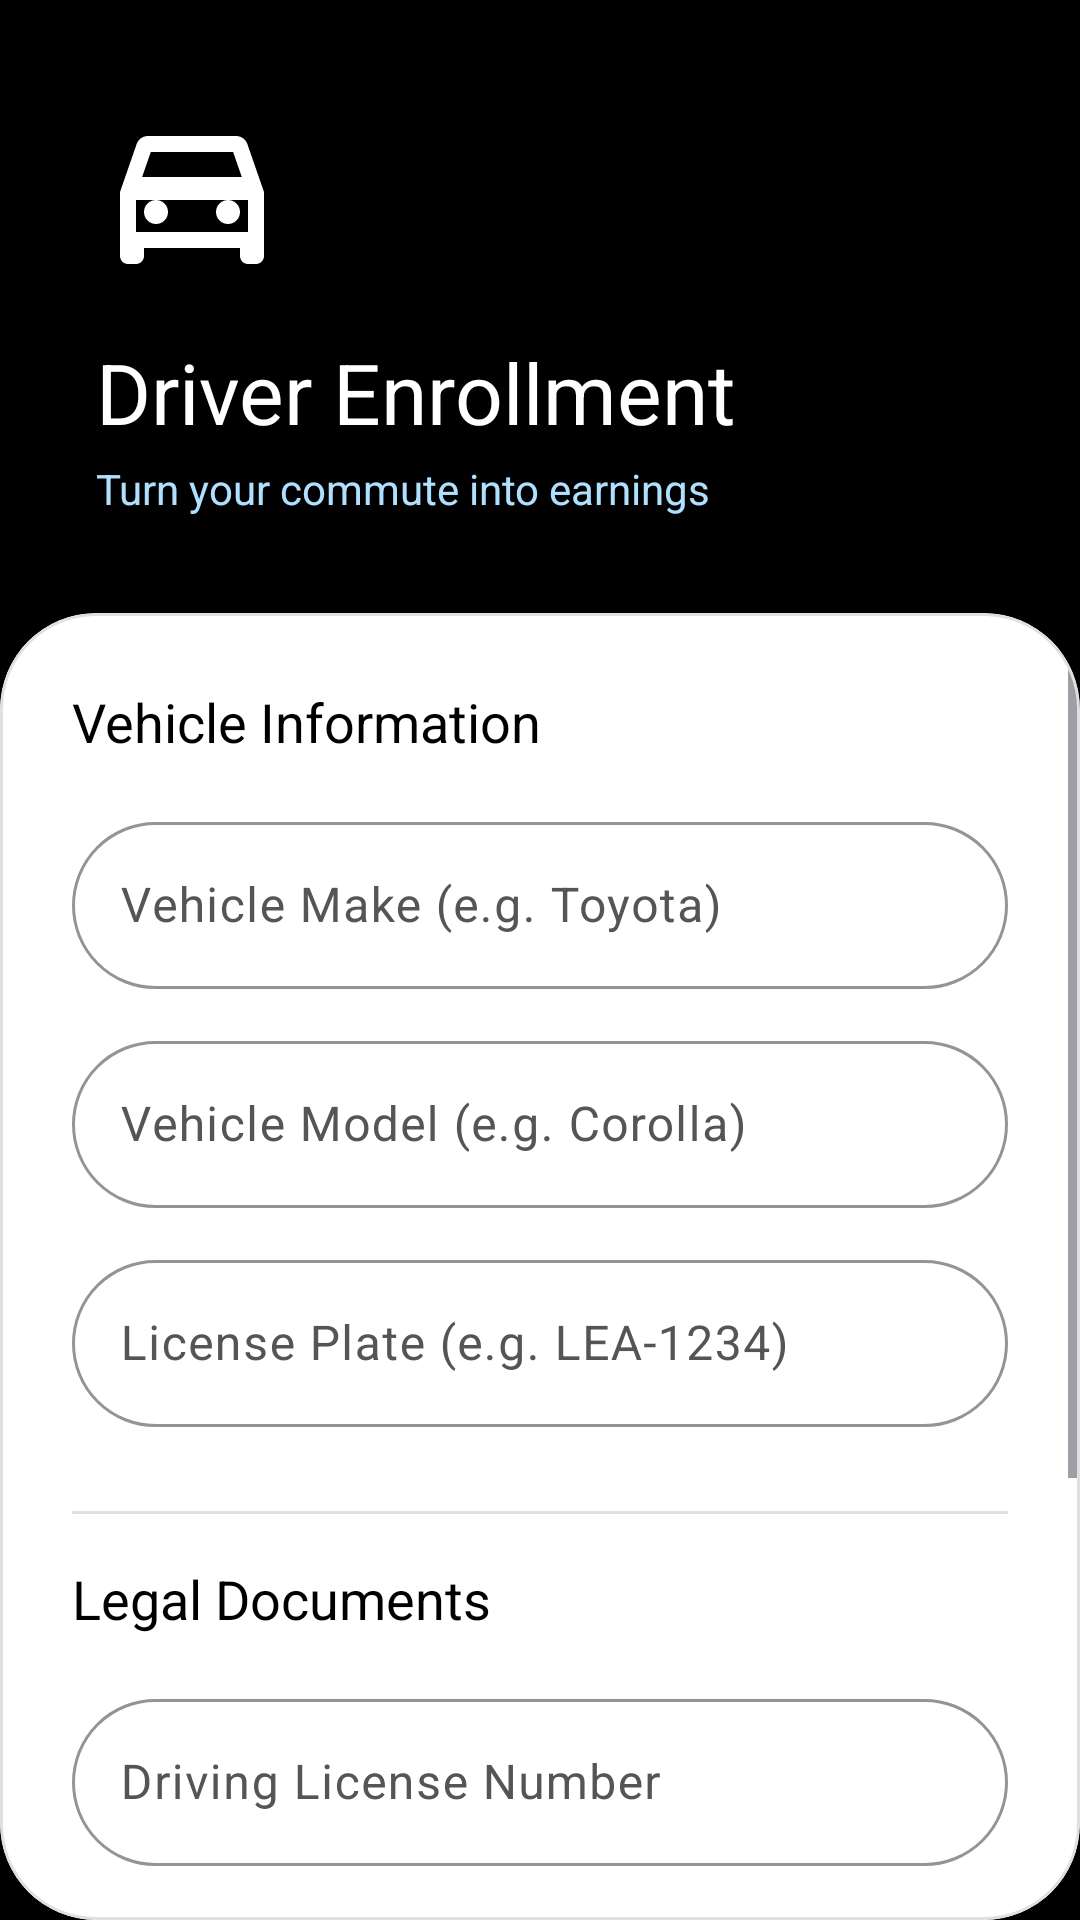

Named icons in this screenshot (1080 x 1920) and their centers, [x,y]:
car: [192,200]
